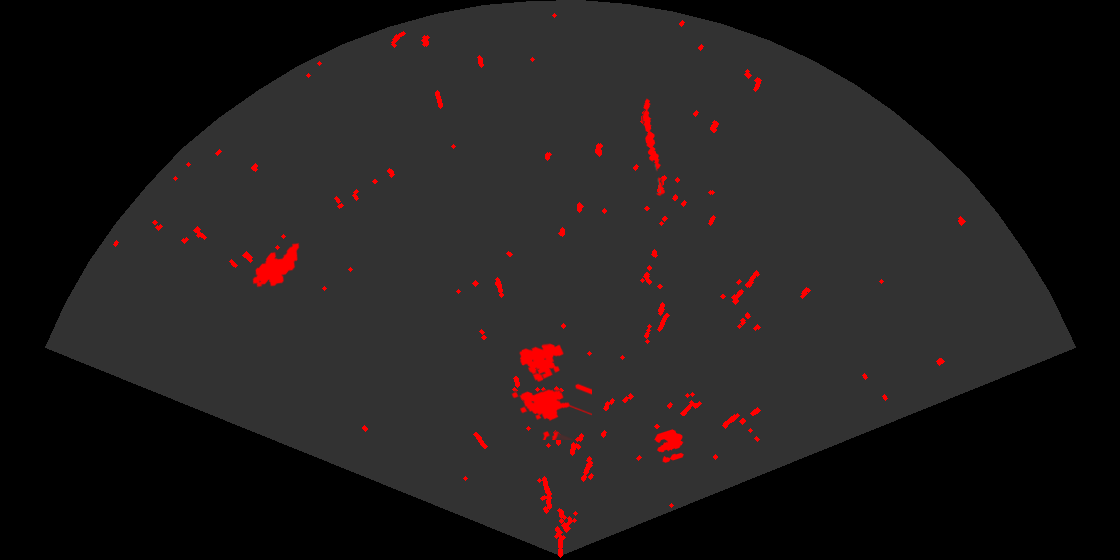AUV: (251, 241, 301, 289)
ball: (653, 428, 685, 464)
cage: (510, 342, 592, 440)
chain: (641, 97, 667, 198)
